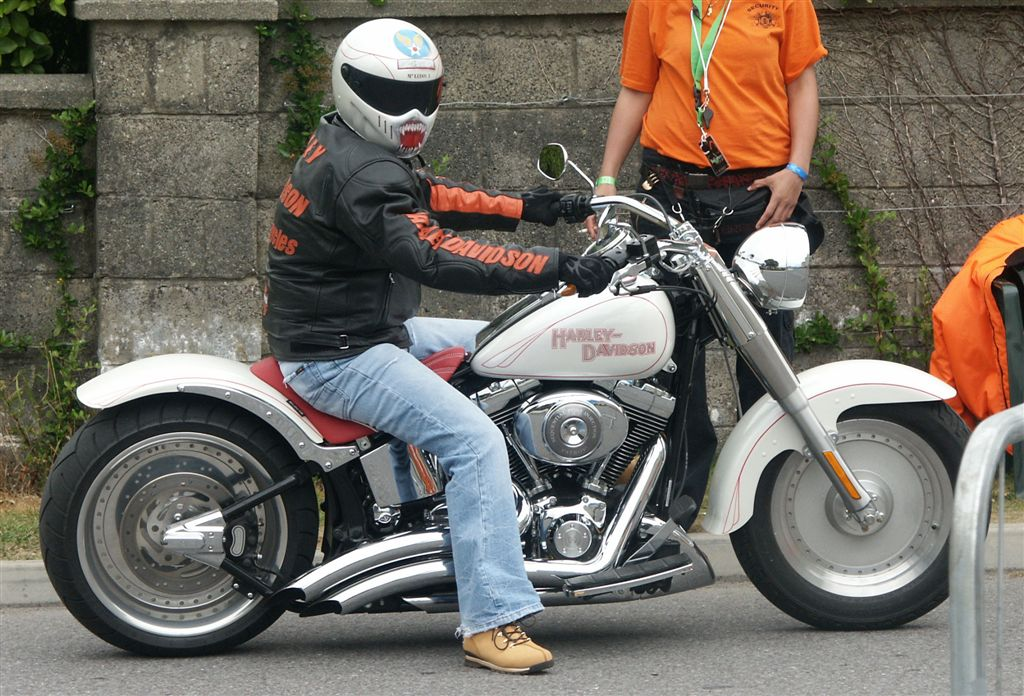helmet: (332, 20, 451, 149)
